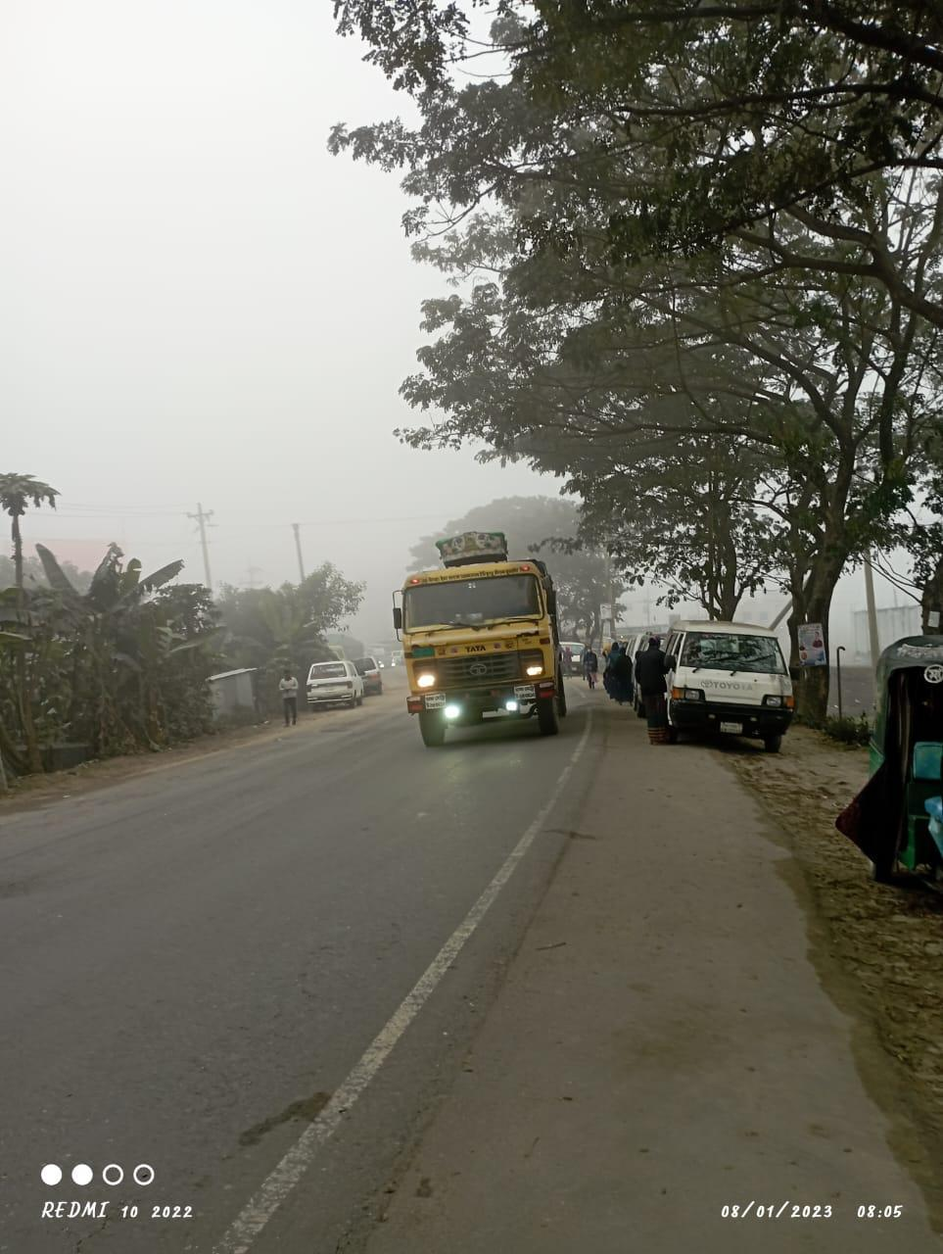Car: (662, 615, 800, 749), (298, 651, 361, 712)
Truck: (378, 526, 573, 738)
